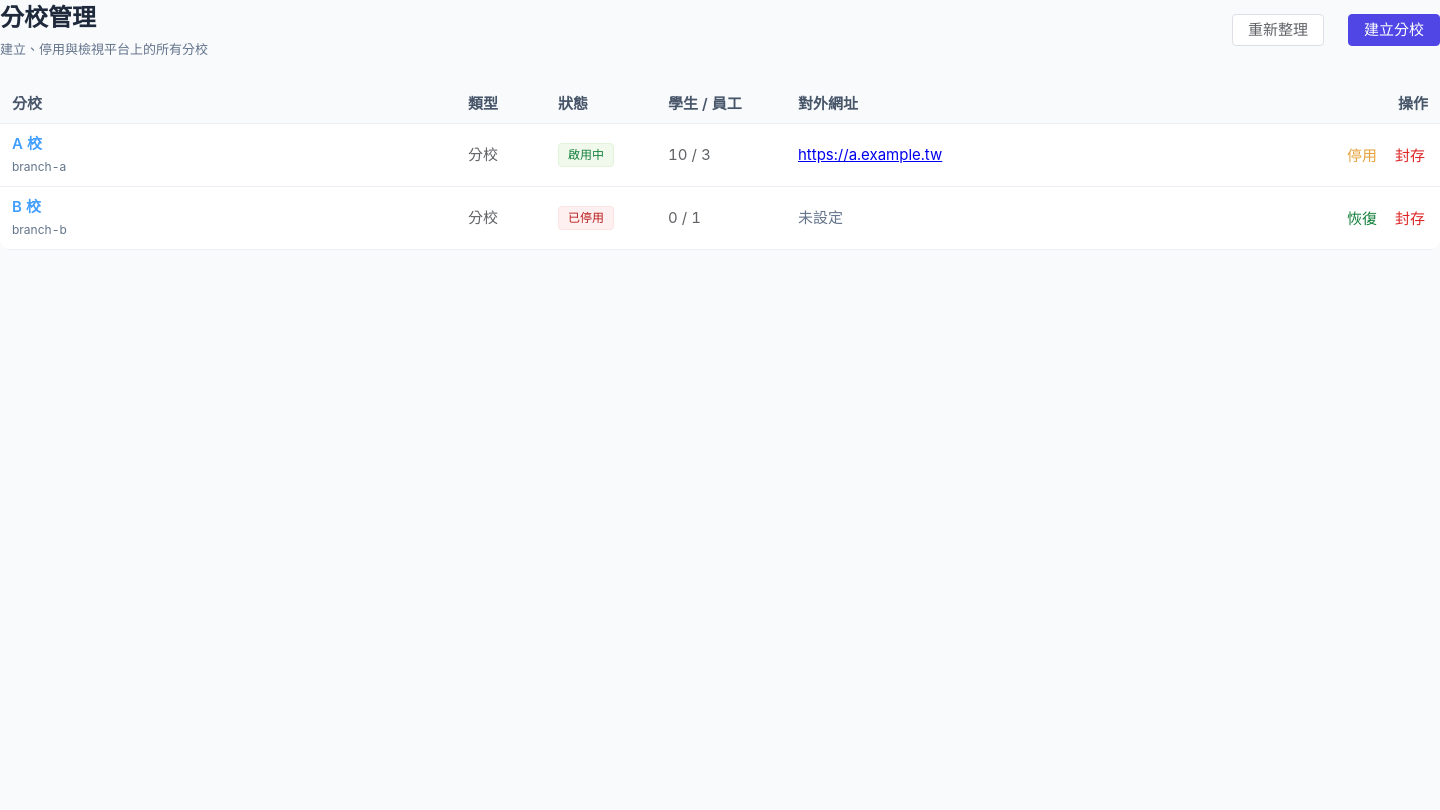
Test: PlatformTenantsView › dry-run 通過後才實建，且回傳的一次性密碼只在結果視窗顯示
The width and height of the screenshot is (1440, 810).
Click the button with test id "open-create" at (1394, 30), box x1=1348 y1=14 x2=1439 y2=46
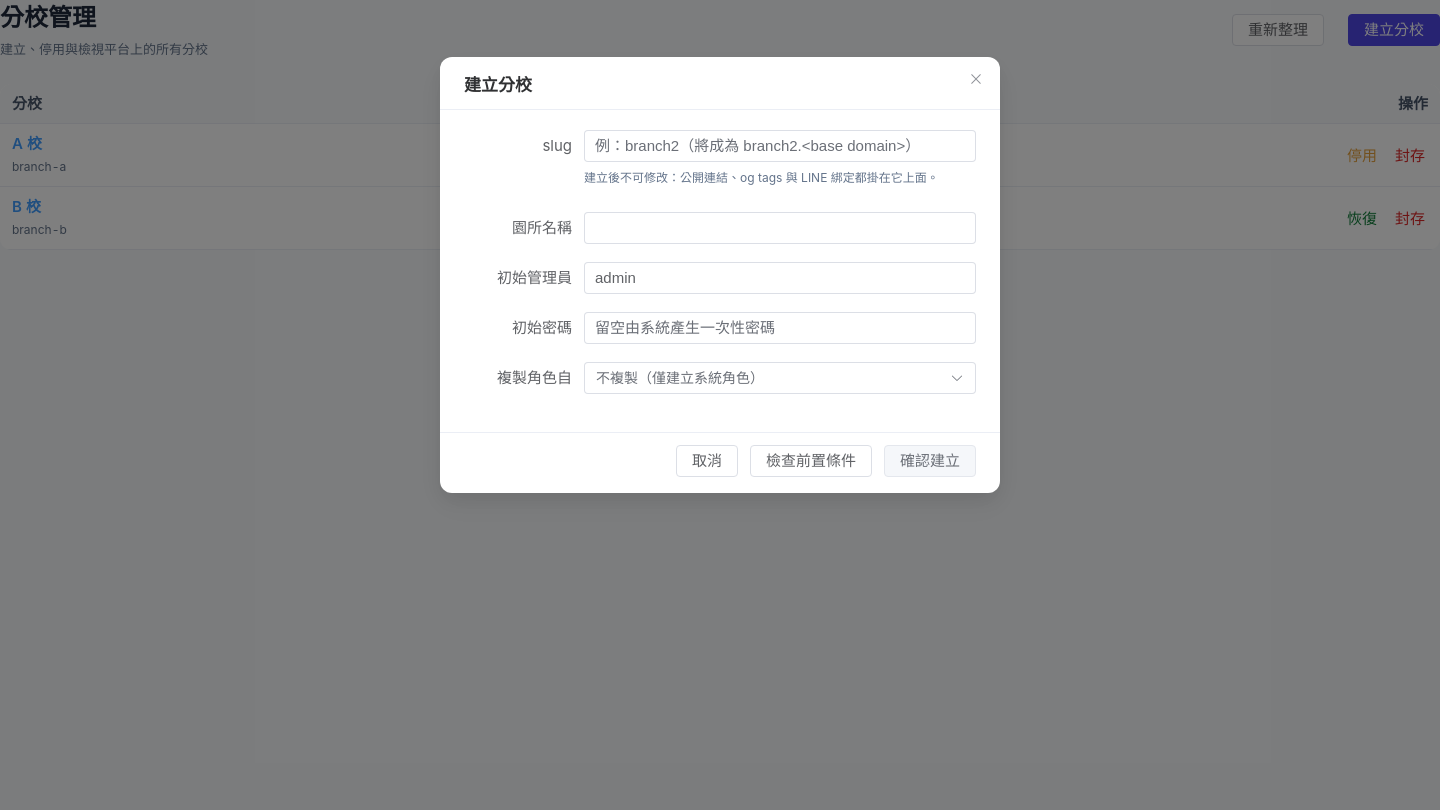
Type "branch-c" into the field with test id "create-slug" at (780, 146), box x1=595 y1=131 x2=965 y2=161
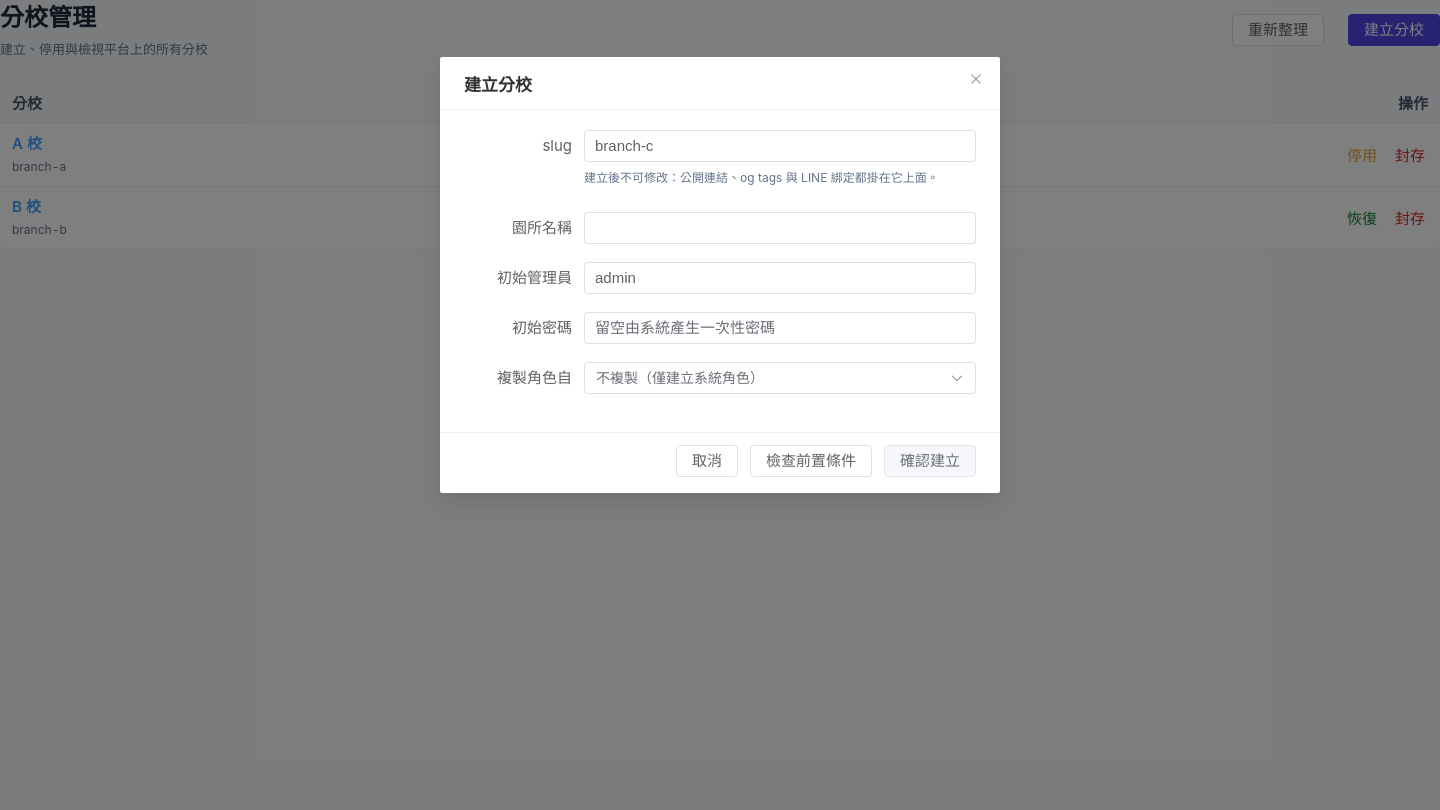
Type "C 校" into the field with test id "create-name" at (780, 228), box x1=595 y1=213 x2=965 y2=243
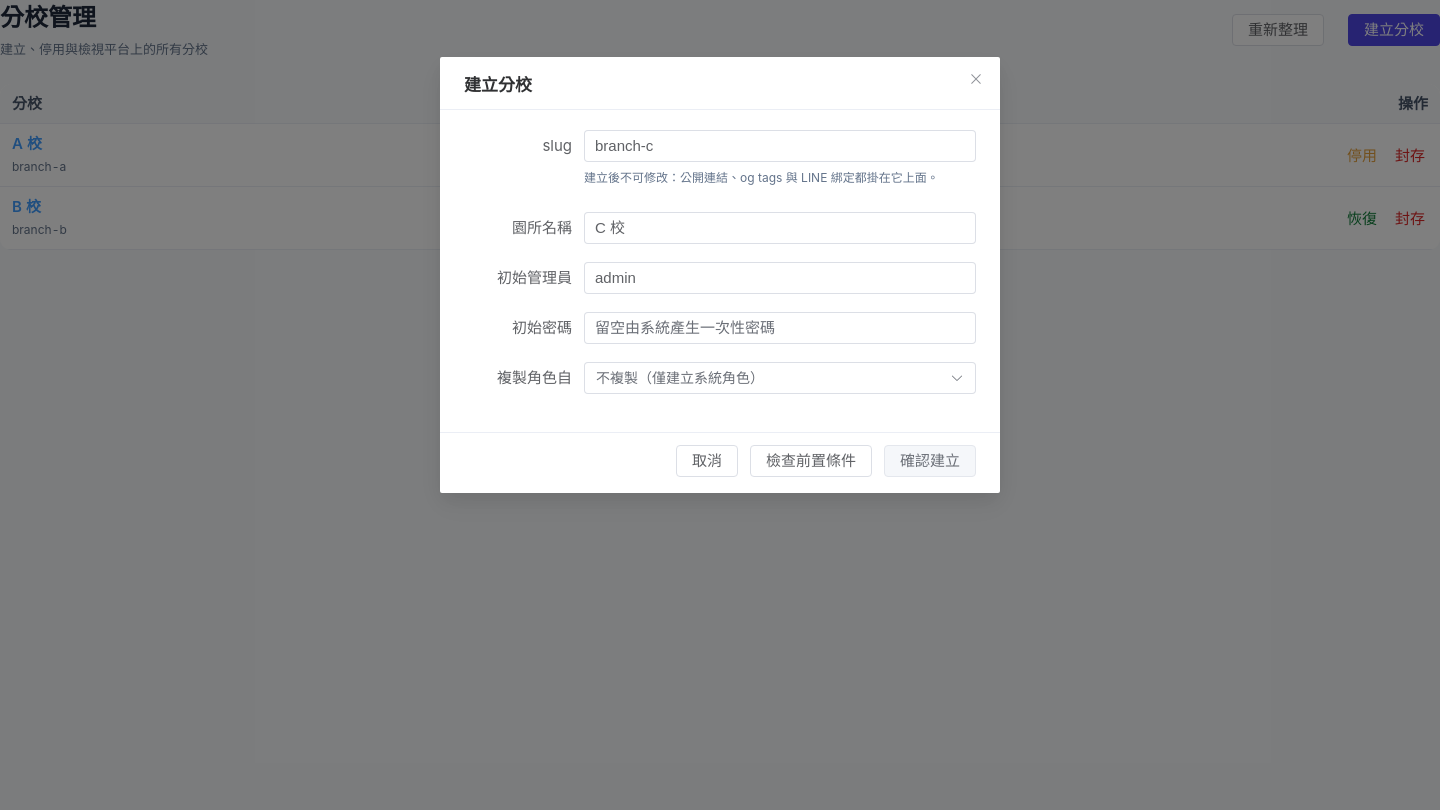
Click the button with test id "create-dryrun" at (811, 461), box x1=750 y1=445 x2=872 y2=477
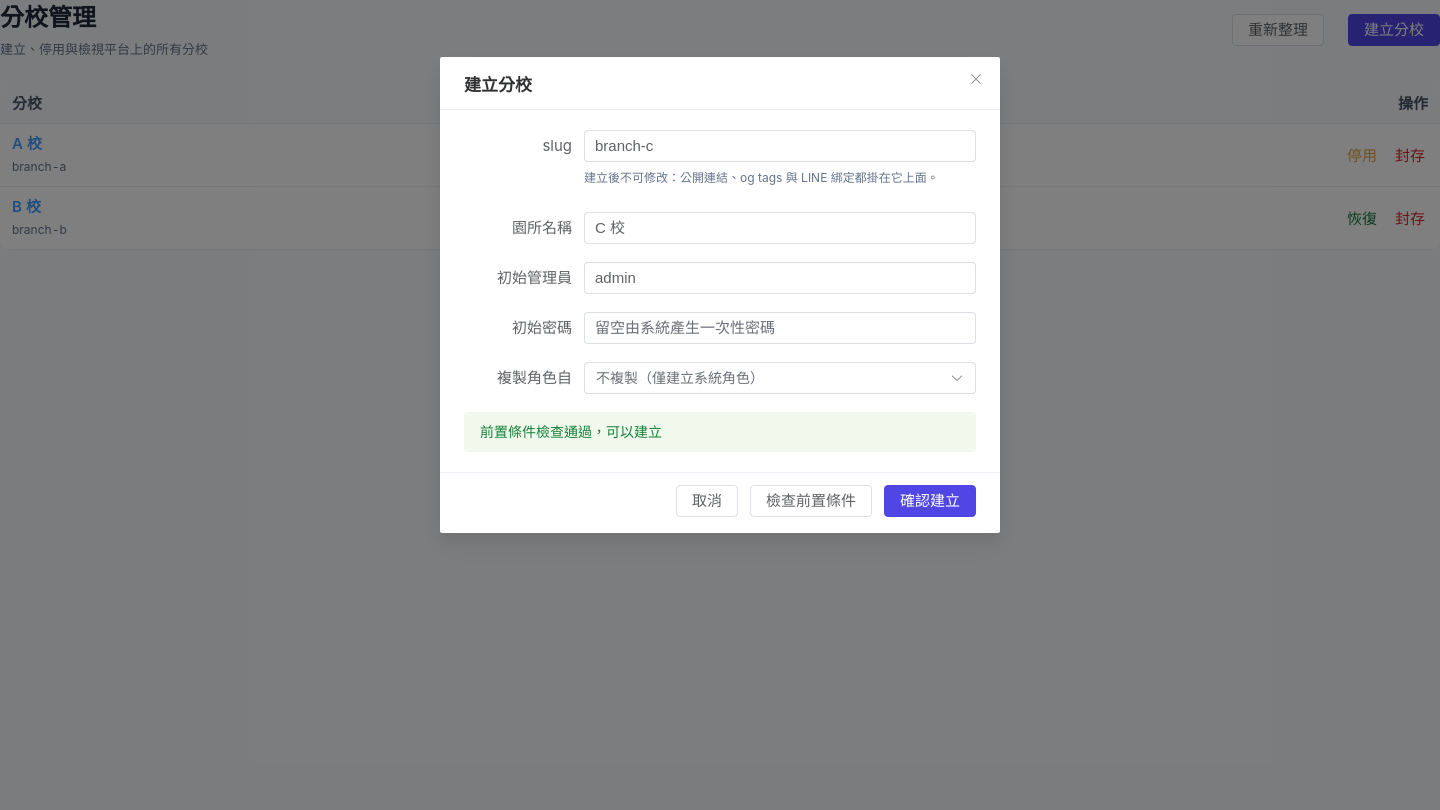
Result: the element with test id "create-dryrun-ok" is shown at x1=464 y1=412 x2=976 y2=452
Click the button with test id "create-submit" at (930, 501), box x1=884 y1=485 x2=976 y2=517
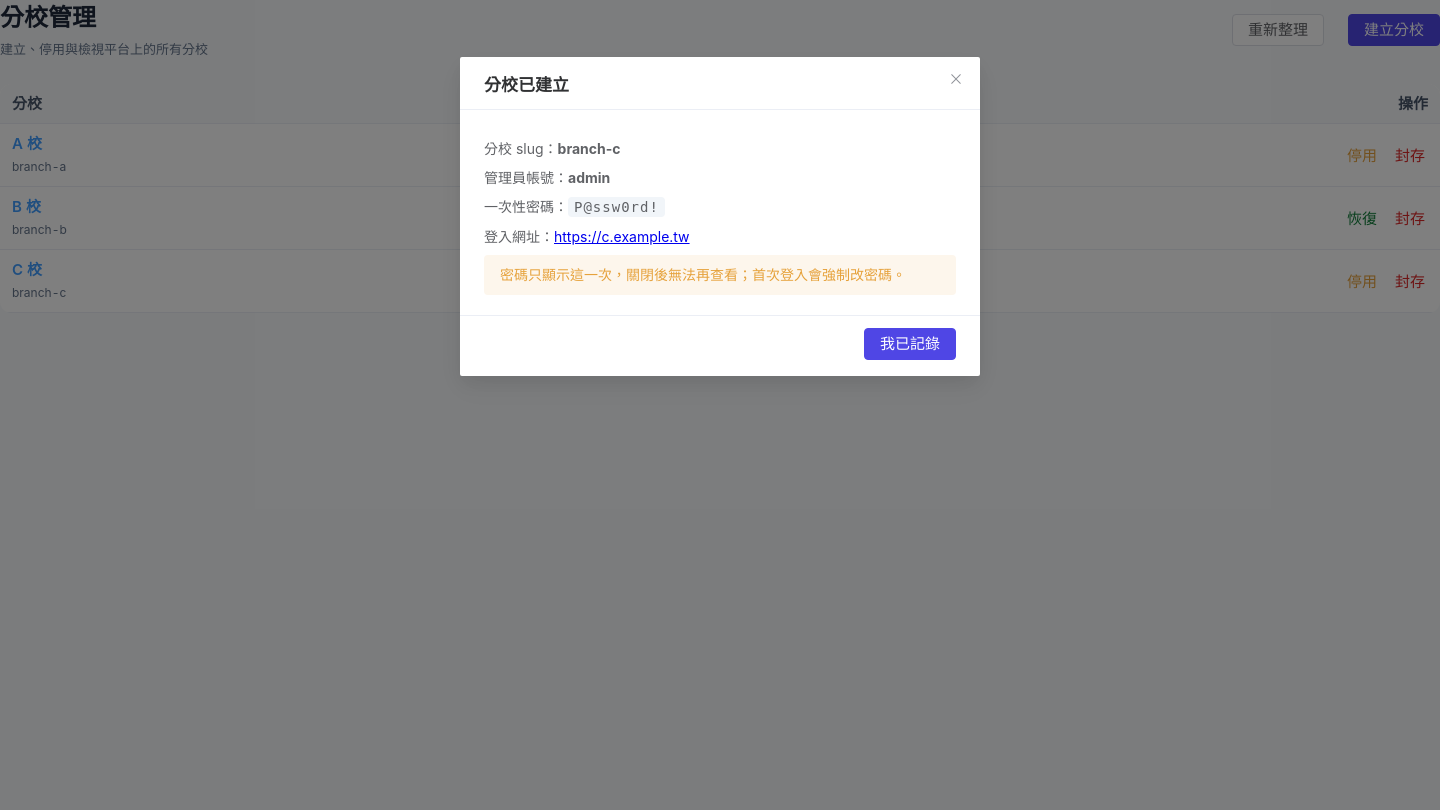
Result: the text with test id "one-time-password" reads "P@ssw0rd!" at x1=574 y1=199 x2=659 y2=215
Result: the link with test id "result-login-url" reads "https://c.example.tw" at x1=554 y1=228 x2=690 y2=245
